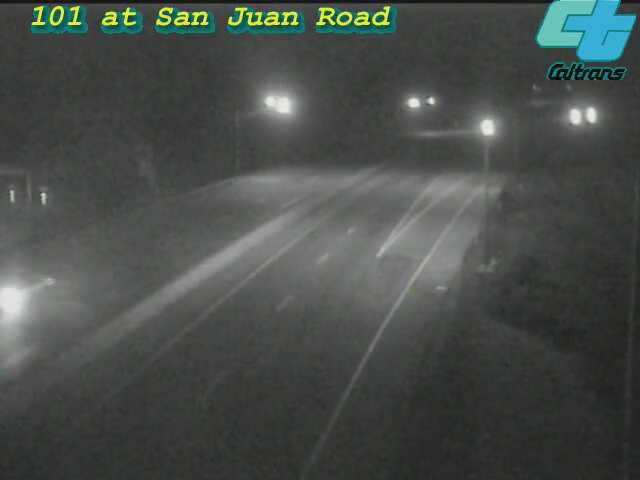vehicle: (1, 257, 56, 337), (465, 102, 515, 152), (549, 91, 599, 141), (566, 91, 616, 141)
